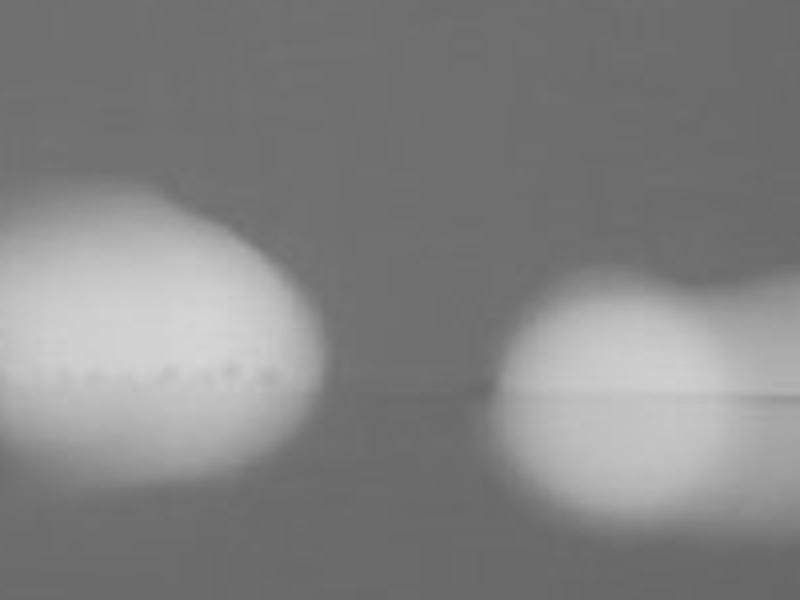defect: (146, 357, 179, 386), (257, 363, 291, 389), (75, 359, 108, 385), (195, 365, 218, 392), (218, 355, 241, 379)
